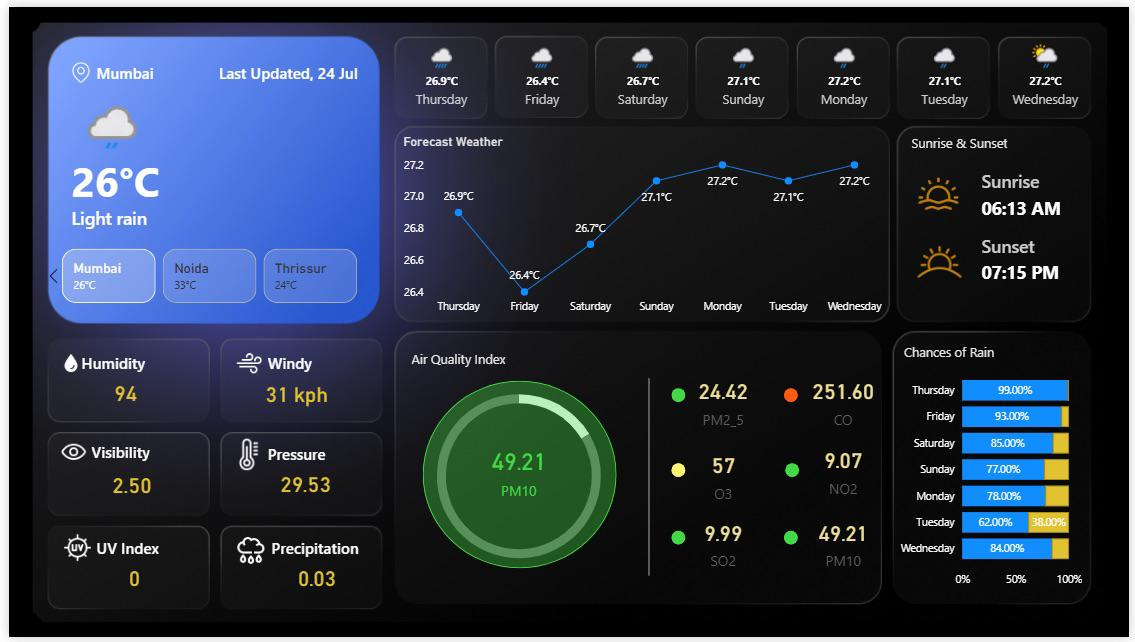

The page's visual inventory and layout, read from the dashboard file:
{"tool":"powerbi","page":{"name":"Page 1","canvas":[1280,720],"ordinal":0},"visuals":[{"type":"image","box":[0,0,1280,720],"z":0},{"type":"advancedSlicerVisual","fields":{"Values":["Locations.location.name"]},"box":[35.7,271.4,388.6,72.9],"z":1000},{"type":"shape","box":[71.4,167.1,141.4,61.4],"z":2000},{"type":"shape","box":[71.4,210,178.6,61.4],"z":3000},{"type":"shape","box":[100,48.6,124.3,52.9],"z":4000},{"type":"shape","box":[240,48.6,174.3,52.9],"z":5000},{"type":"image","box":[51.4,58.6,61.4,32.9],"z":6000},{"type":"cardVisual","fields":{"Data":["Min(Current.current.condition.icon)"]},"box":[57.1,75.7,111.4,91.4],"z":7000},{"type":"image","box":[32.9,391.4,75.7,31.4],"z":8000},{"type":"shape","box":[82.9,380,191.4,52.9],"z":9000},{"type":"image","box":[252.9,387.1,42.9,40],"z":10000},{"type":"shape","box":[295.7,380,191.4,52.9],"z":11000},{"type":"image","box":[47.1,487.1,52.9,42.9],"z":12000},{"type":"shape","box":[94.3,481.4,191.4,52.9],"z":13000},{"type":"image","box":[247.1,488.6,52.9,45.7],"z":14000},{"type":"shape","box":[295.7,484.3,191.4,52.9],"z":15000},{"type":"image","box":[57.1,594.3,42.9,47.1],"z":16000},{"type":"shape","box":[100,591.4,191.4,52.9],"z":17000},{"type":"image","box":[252.9,594.3,47.1,54.3],"z":18000},{"type":"shape","box":[300,591.4,191.4,52.9],"z":19000},{"type":"card","fields":{"Values":["Sum(Current.current.humidity)"]},"box":[71.4,391.4,124.3,98.6],"z":20000},{"type":"card","fields":{"Values":["Locations.Wind_Speed"]},"box":[267.1,392.9,124.3,98.6],"z":21000},{"type":"card","fields":{"Values":["Sum(Current.current.pressure_in)"]},"box":[277.1,495.7,124.3,98.6],"z":22000},{"type":"card","fields":{"Values":["Sum(Current.current.vis_km)"]},"box":[78.6,497.1,124.3,98.6],"z":23000},{"type":"card","fields":{"Values":["Sum(Current.current.uv)"]},"box":[81.4,607.1,124.3,90],"z":24000},{"type":"card","fields":{"Values":["Sum(Current.current.precip_in)"]},"box":[290,607.1,124.3,90],"z":25000},{"type":"advancedSlicerVisual","fields":{"Values":["forecast_day.Day_Name"]},"box":[435.7,31.4,807.1,101.4],"z":26000},{"type":"lineChart","title":"Forecast Weather","fields":{"Y":["Sum(forecast_day.forecast.forecastday.day.avgtemp_c)"],"Category":["forecast_day.Day_Name"]},"box":[445.7,145.7,562.9,214.3],"z":27000},{"type":"shape","box":[1031.4,132.9,160,44.3],"z":28000},{"type":"shape","box":[1111.4,198.6,105.7,61.4],"z":29000},{"type":"shape","box":[1111.4,271.4,105.7,61.4],"z":30000},{"type":"shape","box":[1111.4,167.1,105.7,61.4],"z":31000},{"type":"shape","box":[1111.4,241.4,105.7,61.4],"z":32000},{"type":"image","box":[1031.4,185.7,61.4,55.7],"z":33000},{"type":"image","box":[1024.3,252.9,78.6,77.1],"z":34000},{"type":"hundredPercentStackedBarChart","title":"Chance of R","fields":{"Category":["forecast_day.Day_Name"],"Y":["Sum(forecast_day.forecast.forecastday.day.daily_chance_of_rain)","Locations.Left_value_Rain"]},"box":[1008.6,401.4,222.9,271.4],"z":35000},{"type":"shape","box":[1022.9,371.4,160,44.3],"z":36000},{"type":"shape","box":[460,380,160,44.3],"z":37000},{"type":"card","fields":{"Values":["Sum(Current.current.air_quality.co)"]},"box":[901.4,412.9,104.3,74.3],"z":38000},{"type":"card","fields":{"Values":["Sum(Current.current.air_quality.no2)"]},"box":[901.4,491.4,104.3,74.3],"z":39000},{"type":"card","fields":{"Values":["Sum(Current.current.air_quality.pm10)"]},"box":[901.4,574.3,104.3,74.3],"z":40000},{"type":"card","fields":{"Values":["Sum(Current.current.air_quality.pm2_5)"]},"box":[764.3,412.9,104.3,74.3],"z":41000},{"type":"card","fields":{"Values":["Sum(Current.current.air_quality.o3)"]},"box":[764.3,497.1,104.3,74.3],"z":42000},{"type":"card","fields":{"Values":["Sum(Current.current.air_quality.so2)"]},"box":[764.3,574.3,104.3,74.3],"z":43000},{"type":"shape","box":[757.1,435.7,15.7,15.7],"z":44000},{"type":"shape","box":[757.1,521.4,15.7,15.7],"z":45000},{"type":"shape","box":[757.1,598.6,15.7,15.7],"z":46000},{"type":"shape","box":[885.7,435.7,15.7,15.7],"z":47000},{"type":"shape","box":[887.1,521.4,15.7,15.7],"z":48000},{"type":"shape","box":[885.7,598.6,15.7,15.7],"z":49000},{"type":"shape","box":[622.9,424.3,217.1,225.7],"z":50000},{"type":"card","fields":{"Values":["Sum(Current.current.air_quality.pm10)"]},"box":[525.7,484.3,114.3,91.4],"z":51000},{"type":"donutChart","fields":{"Y":["Sum(Current.current.air_quality.pm10)","Locations.Minus VAlue"]},"box":[360,414.3,445.7,244.3],"z":52000},{"type":"shape","box":[472.9,427.1,221.4,214.3],"z":53000}]}

Visuals, with their boxes in screenshot pixels (x1, y1, x2, y2), scaled from the page's 1280x720 canvas onto the 1135x642 screenshot:
image: 0, 0, 1134, 641
advancedSlicerVisual - Locations.location.name: 32, 242, 376, 307
shape: 63, 149, 189, 204
shape: 63, 187, 222, 242
shape: 89, 43, 199, 91
shape: 213, 43, 367, 91
image: 46, 52, 100, 82
cardVisual - Min(Current.current.condition.icon): 51, 67, 149, 149
image: 29, 349, 96, 377
shape: 74, 339, 243, 386
image: 224, 345, 262, 381
shape: 262, 339, 432, 386
image: 42, 434, 89, 473
shape: 84, 429, 253, 476
image: 219, 436, 266, 476
shape: 262, 432, 432, 479
image: 51, 530, 89, 572
shape: 89, 527, 258, 575
image: 224, 530, 266, 578
shape: 266, 527, 436, 575
card - Sum(Current.current.humidity): 63, 349, 174, 437
card - Locations.Wind_Speed: 237, 350, 347, 438
card - Sum(Current.current.pressure_in): 246, 442, 356, 530
card - Sum(Current.current.vis_km): 70, 443, 180, 531
card - Sum(Current.current.uv): 72, 541, 182, 622
card - Sum(Current.current.precip_in): 257, 541, 367, 622
advancedSlicerVisual - forecast_day.Day_Name: 386, 28, 1102, 118
"Forecast Weather" lineChart: 395, 130, 894, 321
shape: 915, 119, 1056, 158
shape: 985, 177, 1079, 232
shape: 985, 242, 1079, 297
shape: 985, 149, 1079, 204
shape: 985, 215, 1079, 270
image: 915, 166, 969, 215
image: 908, 226, 978, 294
"Chance of R" hundredPercentStackedBarChart: 894, 358, 1092, 600
shape: 907, 331, 1049, 371
shape: 408, 339, 550, 378
card - Sum(Current.current.air_quality.co): 799, 368, 892, 434
card - Sum(Current.current.air_quality.no2): 799, 438, 892, 504
card - Sum(Current.current.air_quality.pm10): 799, 512, 892, 578
card - Sum(Current.current.air_quality.pm2_5): 678, 368, 770, 434
card - Sum(Current.current.air_quality.o3): 678, 443, 770, 509
card - Sum(Current.current.air_quality.so2): 678, 512, 770, 578
shape: 671, 388, 685, 402
shape: 671, 465, 685, 479
shape: 671, 534, 685, 548
shape: 785, 388, 799, 402
shape: 787, 465, 801, 479
shape: 785, 534, 799, 548
shape: 552, 378, 745, 580
card - Sum(Current.current.air_quality.pm10): 466, 432, 568, 513
donutChart - Sum(Current.current.air_quality.pm10) x Locations.Minus VAlue: 319, 369, 714, 587
shape: 419, 381, 616, 572
